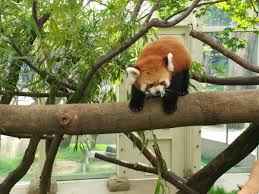redPanda: (110, 30, 212, 119)
